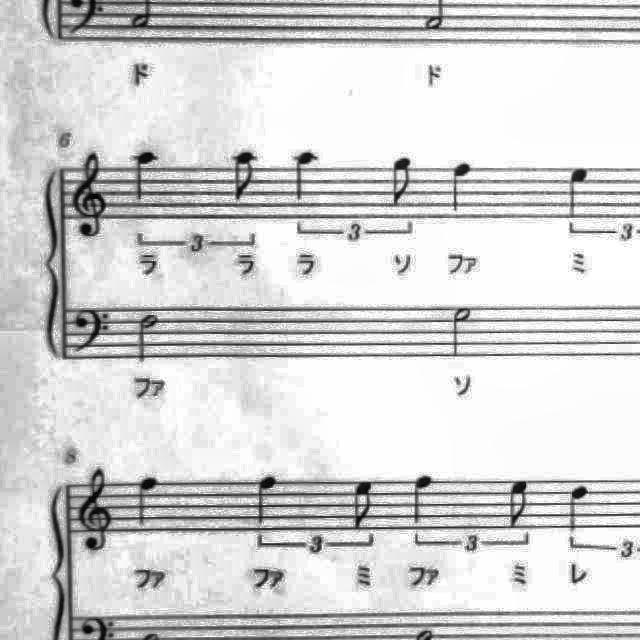Bass-clef: (68, 303, 116, 361)
Eighth-note: (222, 146, 262, 208), (382, 149, 420, 211), (346, 472, 379, 532), (501, 473, 535, 531)
Half-note: (130, 307, 166, 369), (445, 300, 479, 362)
Quarter-note: (286, 144, 326, 206), (442, 155, 480, 219), (127, 144, 165, 208), (562, 160, 598, 224), (130, 471, 167, 532), (251, 471, 285, 532), (406, 469, 439, 529), (561, 479, 595, 537)
Treble-clef: (66, 148, 114, 244), (73, 463, 119, 559)
